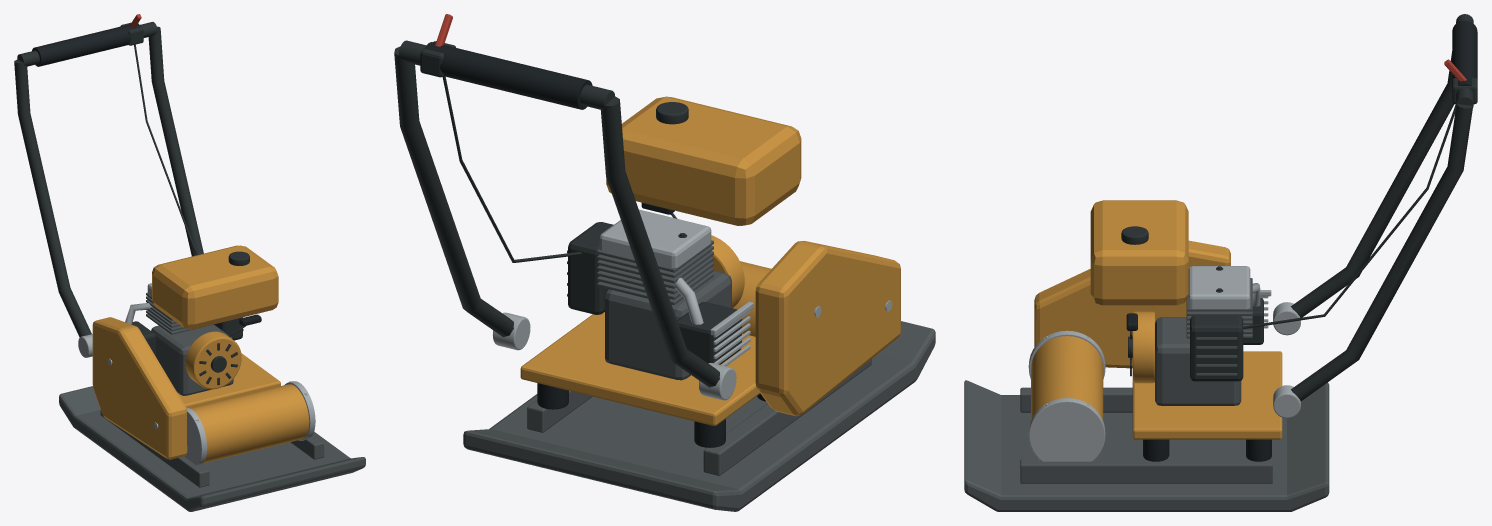
Rendered from city-plate-compactor.glb.
The picture shows the model from 3 angles, left to right: view 1: azimuth 30°, elevation 25°; view 2: azimuth 150°, elevation 25°; view 3: azimuth 270°, elevation 25°; orthographic projection. The views are drawn at different scales.
Visible parts, largest first — view 1: Assembly | Industrial ochre enamel, Assembly | Rough cast iron, Assembly | Graphite machine powder coat, Assembly | Non-marking rubber, Assembly | Zinc plated steel; view 2: Assembly | Industrial ochre enamel, Assembly | Rough cast iron, Assembly | Graphite machine powder coat, Assembly | Zinc plated steel, Assembly | Non-marking rubber; view 3: Assembly | Rough cast iron, Assembly | Industrial ochre enamel, Assembly | Graphite machine powder coat, Assembly | Zinc plated steel, Assembly | Non-marking rubber.
Boxes of the visible parts, bbox=[...] form: Assembly | Industrial ochre enamel: bbox=[92, 245, 309, 463]; Assembly | Rough cast iron: bbox=[59, 292, 365, 511]; Assembly | Graphite machine powder coat: bbox=[14, 22, 249, 385]; Assembly | Non-marking rubber: bbox=[32, 23, 261, 326]; Assembly | Zinc plated steel: bbox=[78, 283, 315, 465]; Assembly | Industrial ochre enamel: bbox=[520, 96, 900, 425]; Assembly | Rough cast iron: bbox=[463, 240, 935, 511]; Assembly | Graphite machine powder coat: bbox=[394, 40, 741, 387]; Assembly | Zinc plated steel: bbox=[493, 209, 892, 400]; Assembly | Non-marking rubber: bbox=[421, 42, 765, 447]; Assembly | Rough cast iron: bbox=[964, 278, 1329, 511]; Assembly | Industrial ochre enamel: bbox=[1031, 200, 1282, 439]; Assembly | Graphite machine powder coat: bbox=[1121, 14, 1477, 401]; Assembly | Zinc plated steel: bbox=[1028, 266, 1300, 461]; Assembly | Non-marking rubber: bbox=[1126, 20, 1477, 461].
Bounding box in the file's own units: 0.5429 × 1.01 × 1.1.
